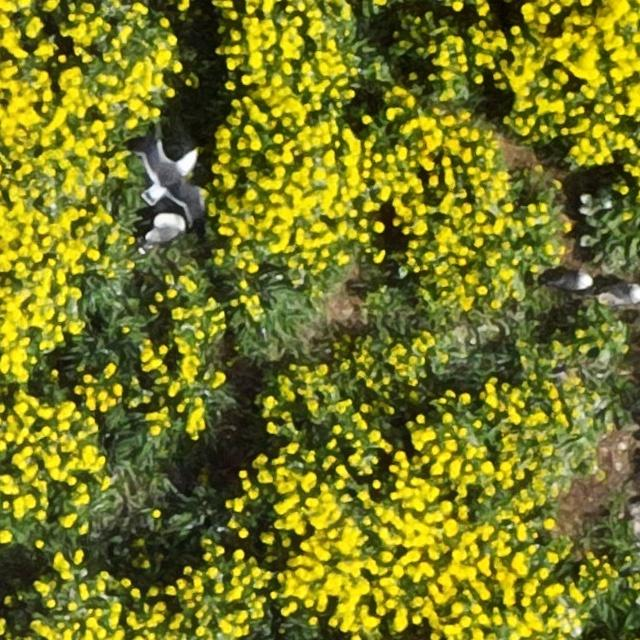F: (144, 140, 205, 218)
umineko: (145, 214, 183, 244), (544, 272, 594, 294), (606, 283, 640, 306)
